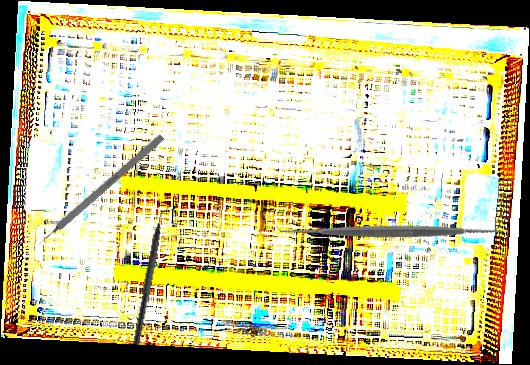Chopper: (133, 201, 174, 347)
Hook Surgical: (32, 133, 165, 251)
Spatula Surgical: (270, 110, 513, 352)
